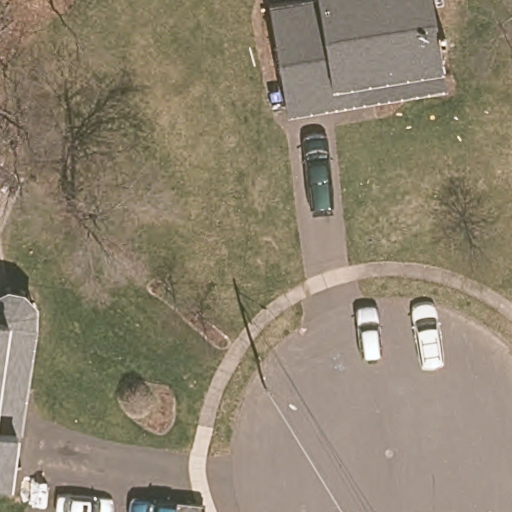DT: (256, 358, 298, 420)
